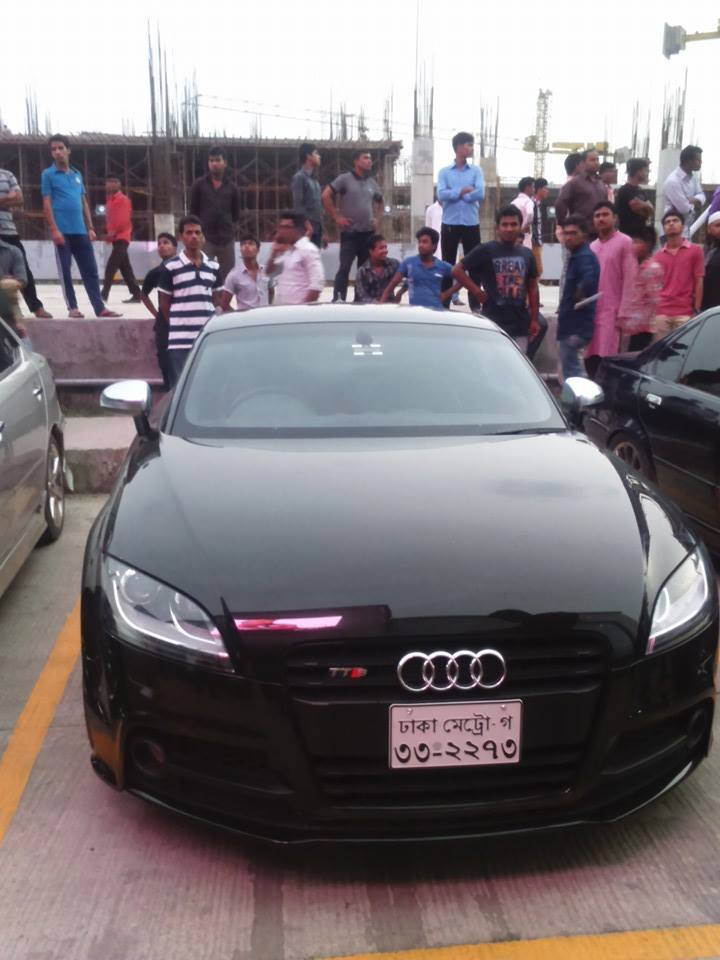registration_plate: (389, 699, 523, 768)
